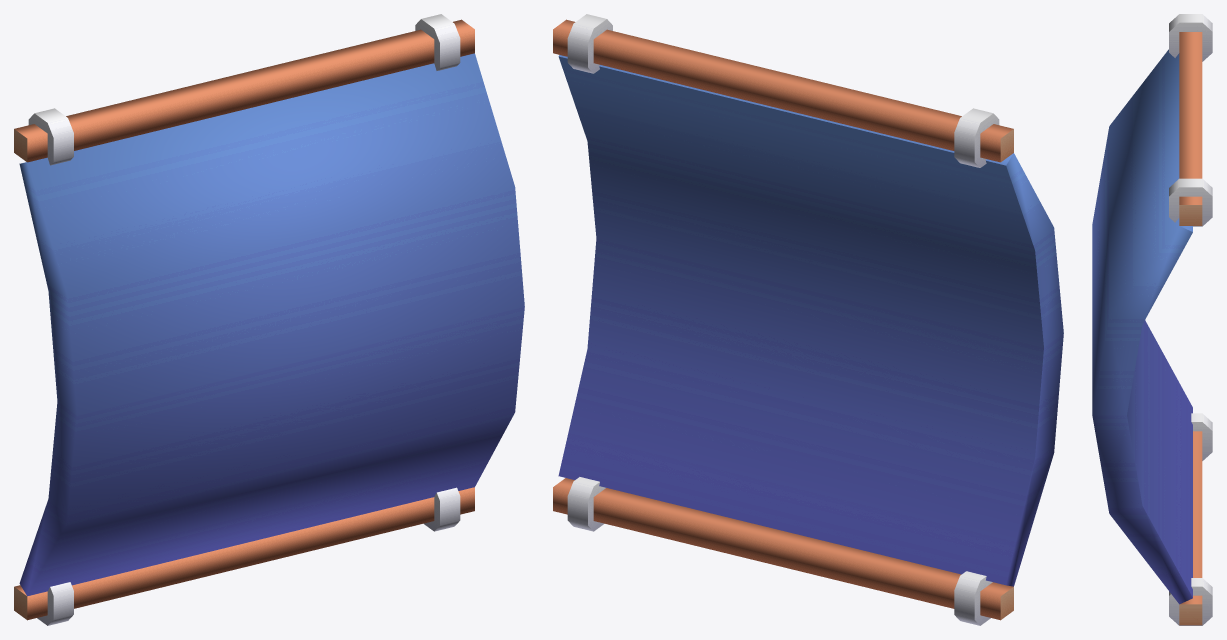
Rendered from sail_blue.glb.
The picture shows the model from 3 angles, left to right: view 1: azimuth 30°, elevation 25°; view 2: azimuth 150°, elevation 25°; view 3: azimuth 270°, elevation 25°; orthographic projection. The views are drawn at different scales.
Parts seen in each view (by area): view 1: sail-a_blue; view 2: sail-a_blue; view 3: sail-a_blue.
Boxes of the visible parts, x1,y1,x2,y2 form: sail-a_blue: (14, 14, 524, 625); sail-a_blue: (553, 14, 1063, 625); sail-a_blue: (1092, 14, 1212, 625).
Size of the model in its own units: 4.4 by 4.72 by 1.18.
Materials: 1 (1 with a texture image).
